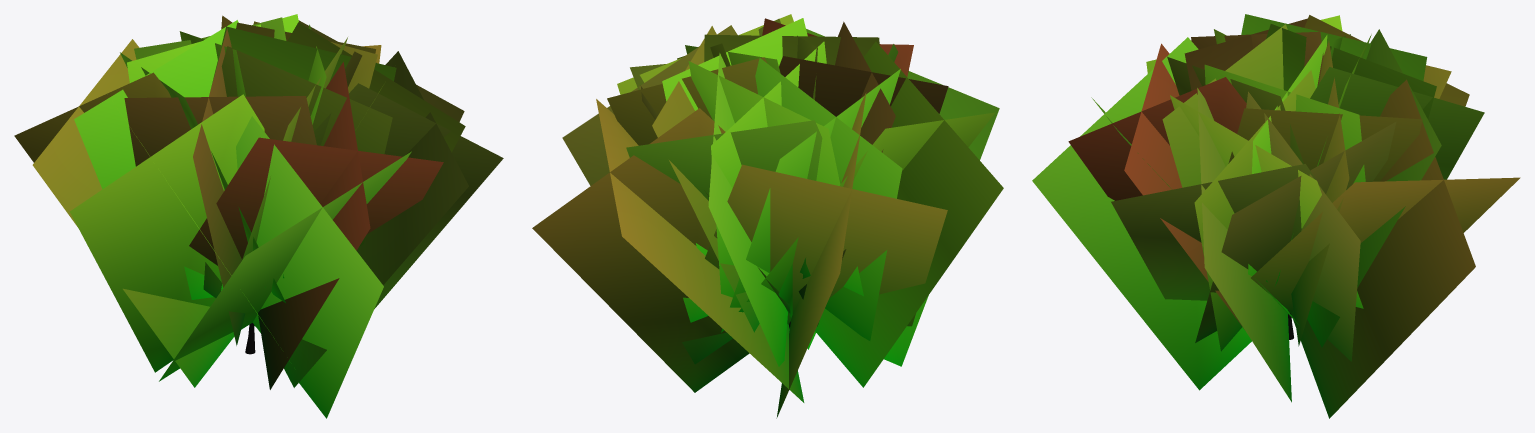
The model's file is Bush_5_4.fbx.
The picture shows the model from 3 angles, left to right: view 1: azimuth 30°, elevation 25°; view 2: azimuth 150°, elevation 25°; view 3: azimuth 270°, elevation 25°; orthographic projection. The views are drawn at different scales.
Visible parts, largest first — view 1: _14; view 2: _14; view 3: _14.
Boxes of the visible parts, left/top/right/bottom form: _14: left=14, top=14, right=503, bottom=418; _14: left=532, top=14, right=1003, bottom=418; _14: left=1032, top=14, right=1520, bottom=418.
Size of the model in its own units: 579 by 489 by 623.
